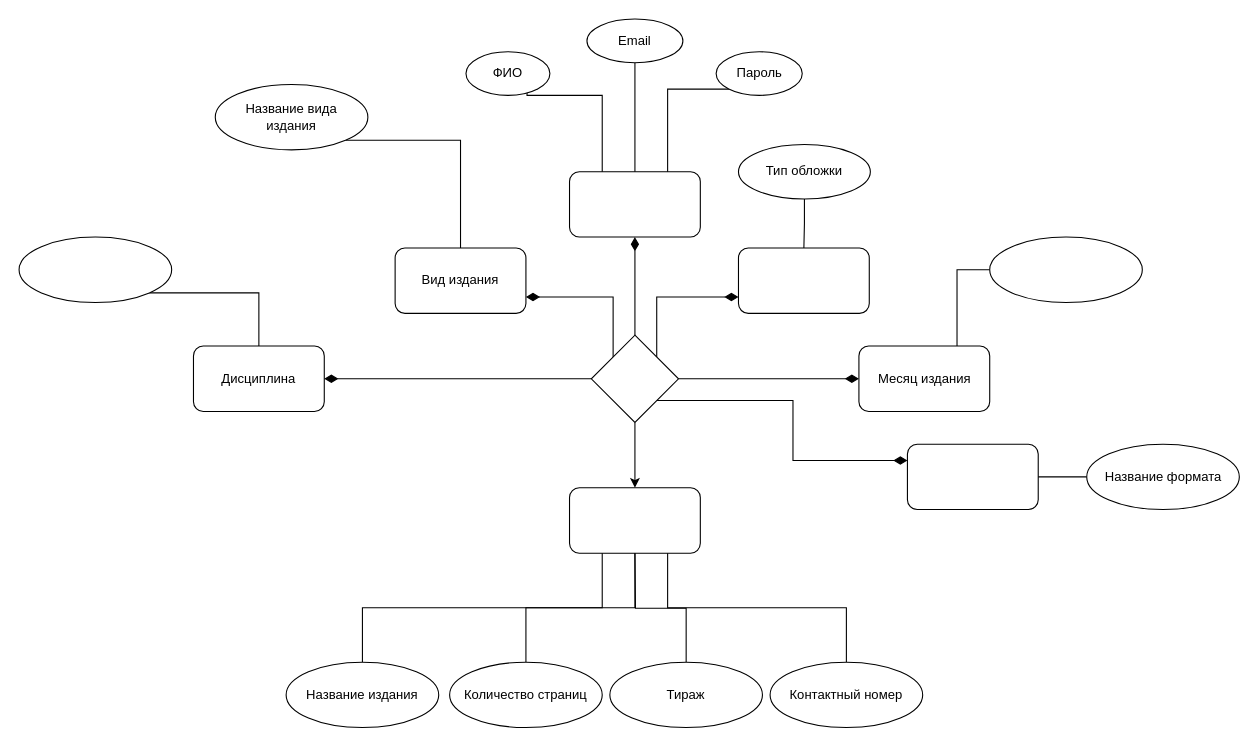
This 1259x747 diagram has some shape labels left out. Here are the shapes that lost their labels. From the top down, the box of each, then its label:
(568, 171, 700, 237): Преподаватели
(18, 236, 172, 302): Название дисциплины
(737, 247, 869, 313): Обложка
(989, 236, 1142, 302): Название месяца
(590, 334, 679, 422): Включает
(906, 443, 1038, 510): Формат бумаги
(568, 487, 700, 553): Методические издания
